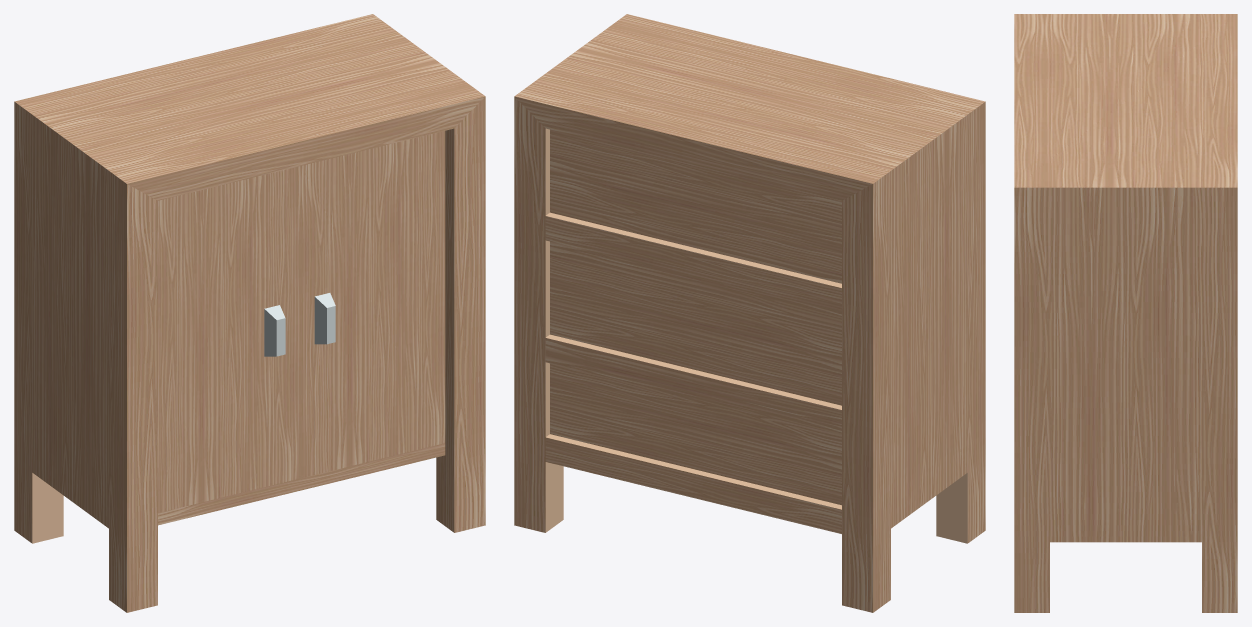
Rendered from armadietto-texture.glb.
The picture shows the model from 3 angles, left to right: view 1: azimuth 30°, elevation 25°; view 2: azimuth 150°, elevation 25°; view 3: azimuth 270°, elevation 25°; orthographic projection.
Parts seen in each view (by area): view 1: bookcaseClosedDoors(Clone), doorRight, doorLeft; view 2: bookcaseClosedDoors(Clone); view 3: bookcaseClosedDoors(Clone).
Part boxes in pixels (x1,y1,x2,y2): bookcaseClosedDoors(Clone): (14,14,485,612); doorRight: (297,131,445,478); doorLeft: (158,167,297,512); bookcaseClosedDoors(Clone): (514,14,985,612); bookcaseClosedDoors(Clone): (1014,14,1237,612).
Size of the model in its own units: 0.46 by 0.5257 by 0.25.
Materials: 3 (1 with a texture image).
